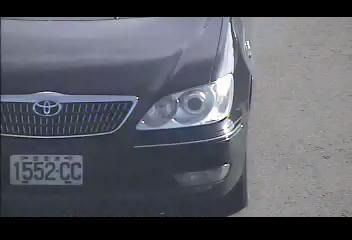plate: (8, 154, 84, 187)
